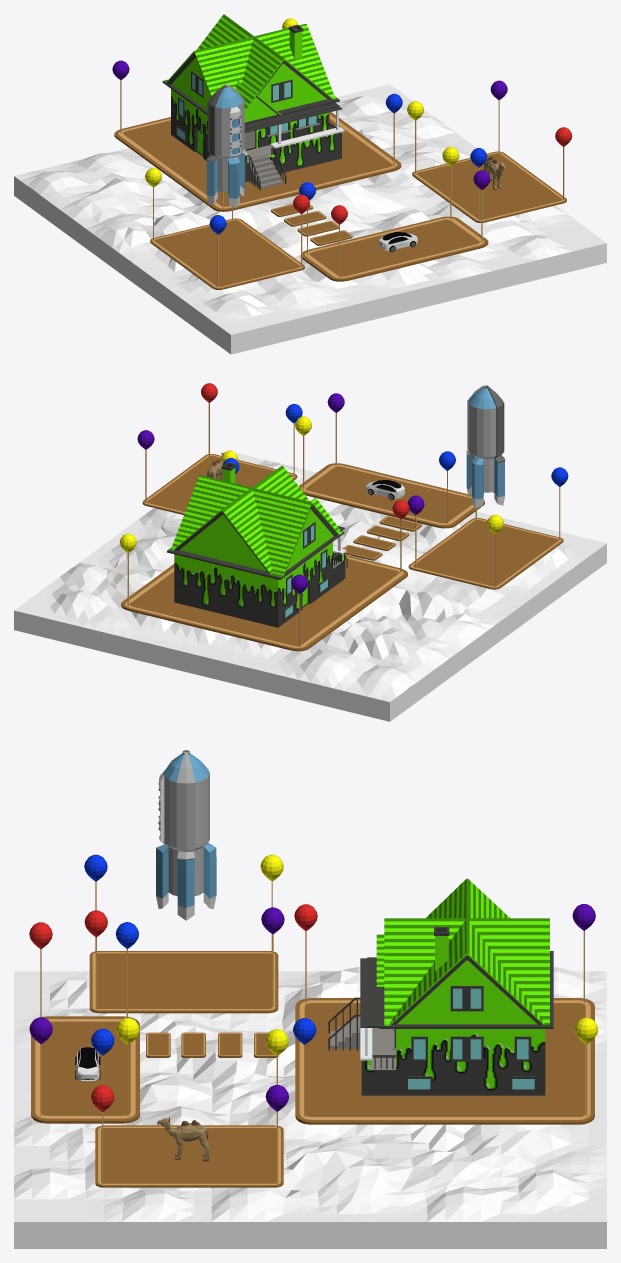
The picture shows the model from 3 angles, top to bottom: view 1: azimuth 30°, elevation 25°; view 2: azimuth 150°, elevation 25°; view 3: azimuth 270°, elevation 25°; orthographic projection. The views are drawn at different scales.
Parts seen in each view (by area): view 1: Cube.013, Cube.754, OBJRANDOM_ROCKETSHIP, VEHICLES_TESLA; view 2: Cube.013, Cube.754, OBJRANDOM_ROCKETSHIP, VEHICLES_TESLA; view 3: Cube.013, Cube.754, OBJRANDOM_ROCKETSHIP, ANIMAL_CAMELLO, VEHICLES_TESLA.
Boxes of the visible parts, <box> form: Cube.013: <box>14,18,606,354</box>; Cube.754: <box>162,14,344,190</box>; OBJRANDOM_ROCKETSHIP: <box>206,84,245,207</box>; VEHICLES_TESLA: <box>379,232,417,252</box>; Cube.013: <box>14,383,606,721</box>; Cube.754: <box>167,462,347,627</box>; OBJRANDOM_ROCKETSHIP: <box>466,385,505,508</box>; VEHICLES_TESLA: <box>366,480,404,500</box>; Cube.013: <box>14,854,606,1248</box>; Cube.754: <box>328,878,553,1095</box>; OBJRANDOM_ROCKETSHIP: <box>156,750,216,920</box>; ANIMAL_CAMELLO: <box>157,1116,209,1161</box>; VEHICLES_TESLA: <box>75,1047,100,1081</box>.
Size of the model in its own units: 4000 by 2224 by 4000.
34 materials, 3 textured.
